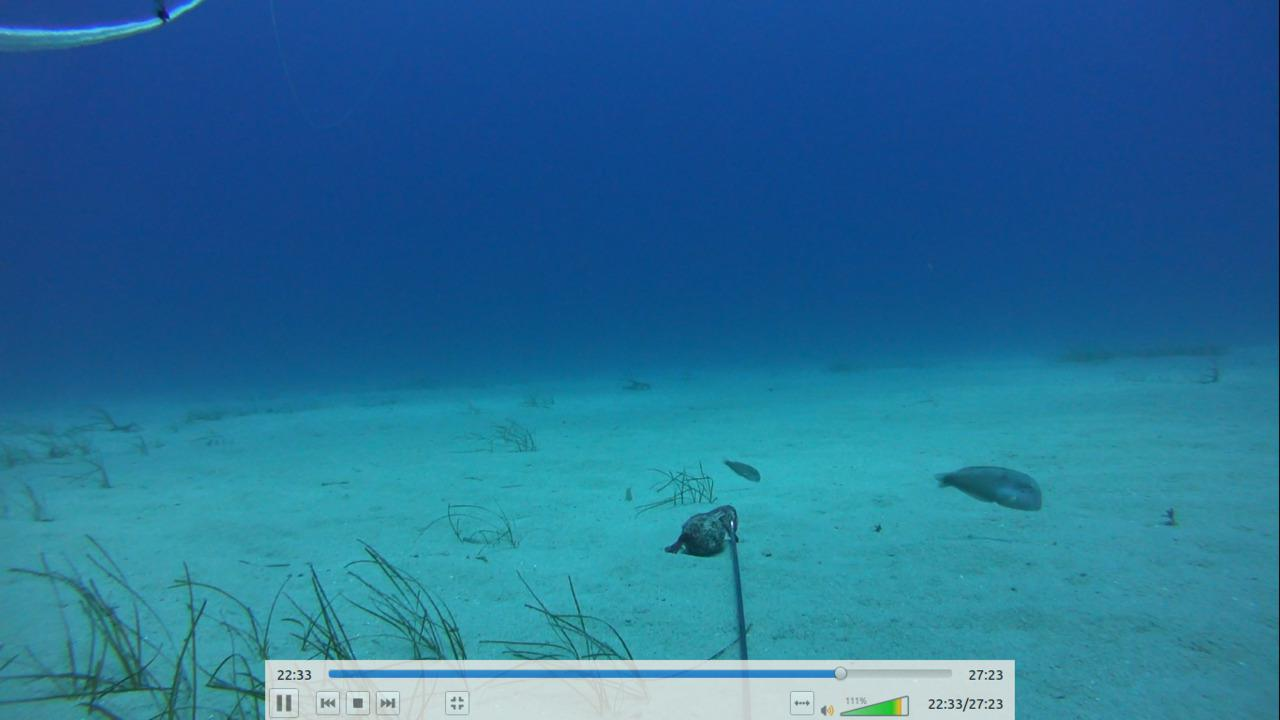raor: (934, 460, 1045, 514), (719, 455, 758, 482)
